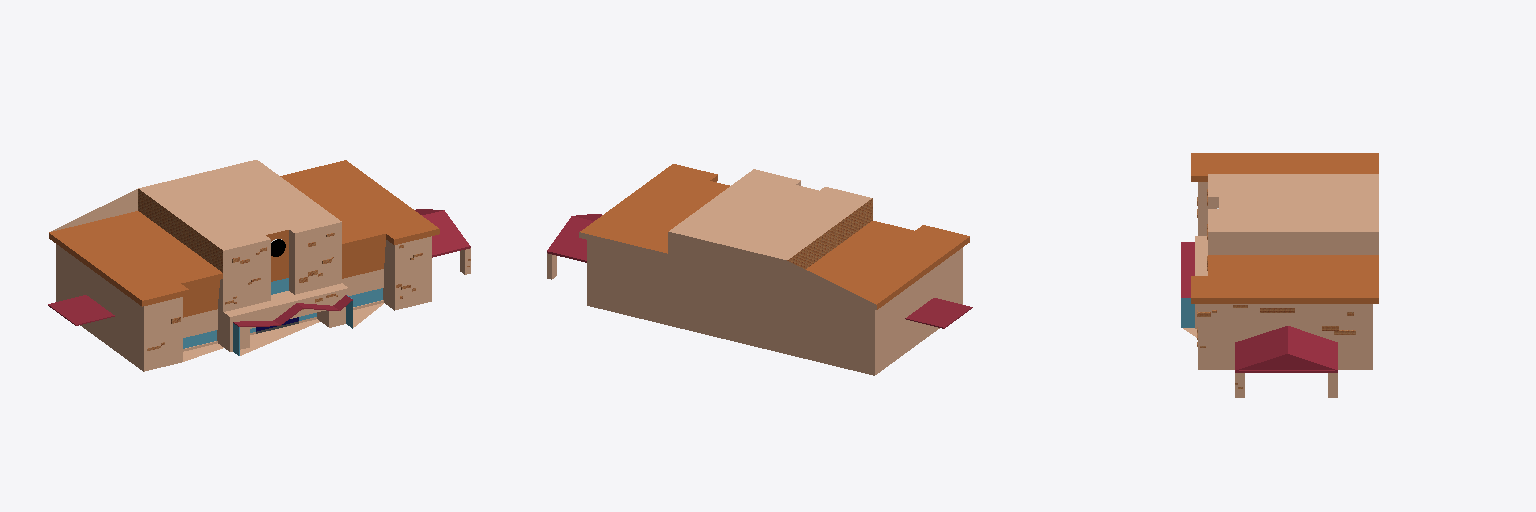
3 views of the same model, side by side, from view 1: azimuth 30°, elevation 25°; view 2: azimuth 150°, elevation 25°; view 3: azimuth 270°, elevation 25° (orthographic).
Parts seen in each view (by area): view 1: Mesh1Model; view 2: Mesh1Model; view 3: Mesh1Model.
Part boxes in pixels (x1,y1,x2,y2): Mesh1Model: (48,160,470,371); Mesh1Model: (547,164,972,375); Mesh1Model: (1181,153,1378,397).
Bounding box in the file's own units: 11.47 × 2.75 × 5.09.
Materials: 10 (8 with a texture image).